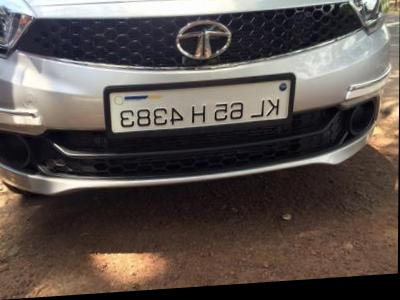License_Plate: (110, 73, 295, 133)
